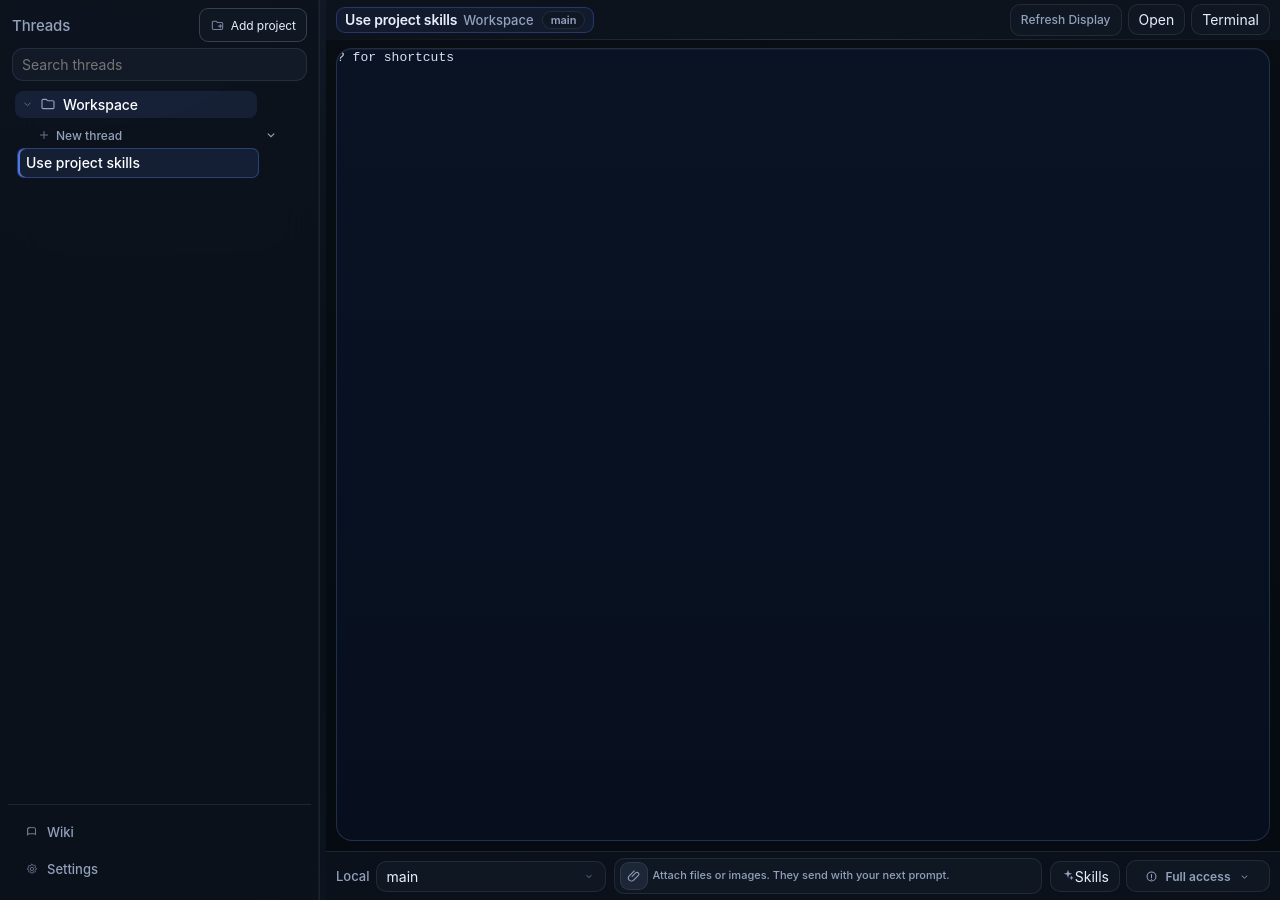
Scenario: Skills management › autofocuses the search field and filters the visible skills list in real time
Click the button "Skills".
click(1085, 876)  # box top-left (1050, 860), bottom-right (1120, 892)
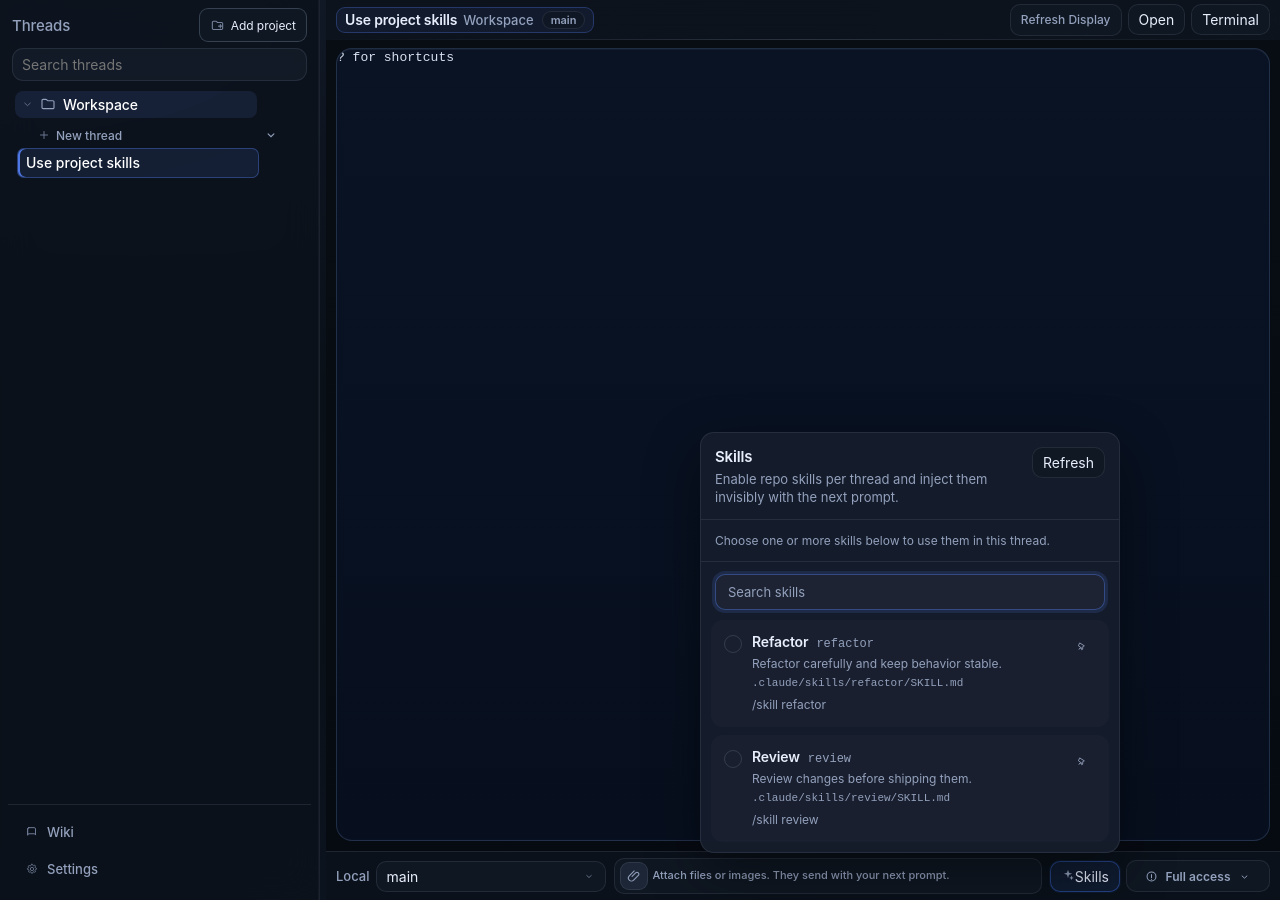
Check: the text "Review" is shown, box top-left (752, 748), bottom-right (800, 765)
Check: the text "Refactor" is shown, box top-left (752, 633), bottom-right (808, 650)
Type "refactor stable" into the search field labelled "Search skills".
click(910, 592); type("refactor stable")  # box top-left (715, 574), bottom-right (1105, 610)
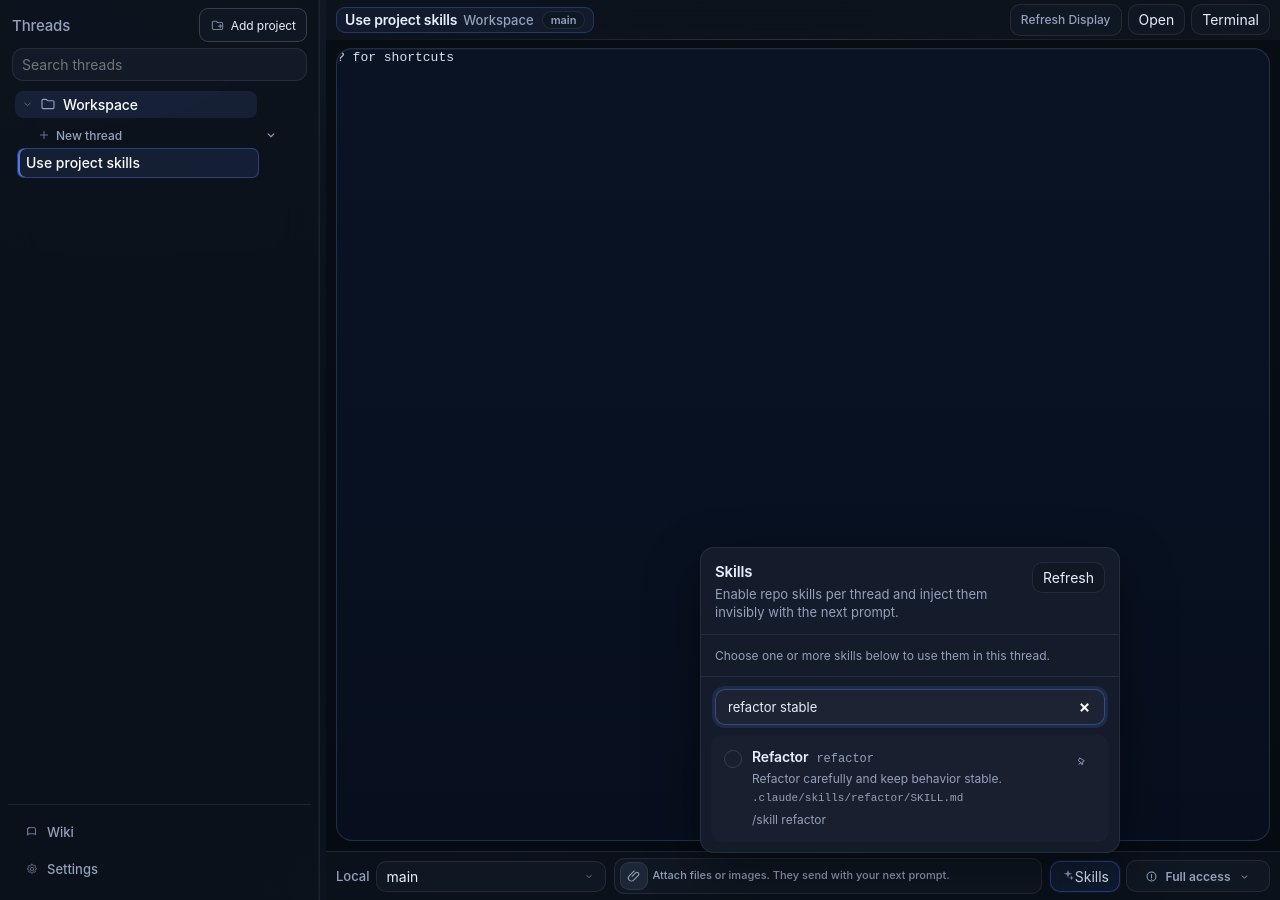
Check: the text "Refactor" is shown, box top-left (752, 748), bottom-right (808, 765)
Check: the button "Review" is gone
Clear the search field named "Search skills" at (910, 707), box top-left (715, 689), bottom-right (1105, 725)
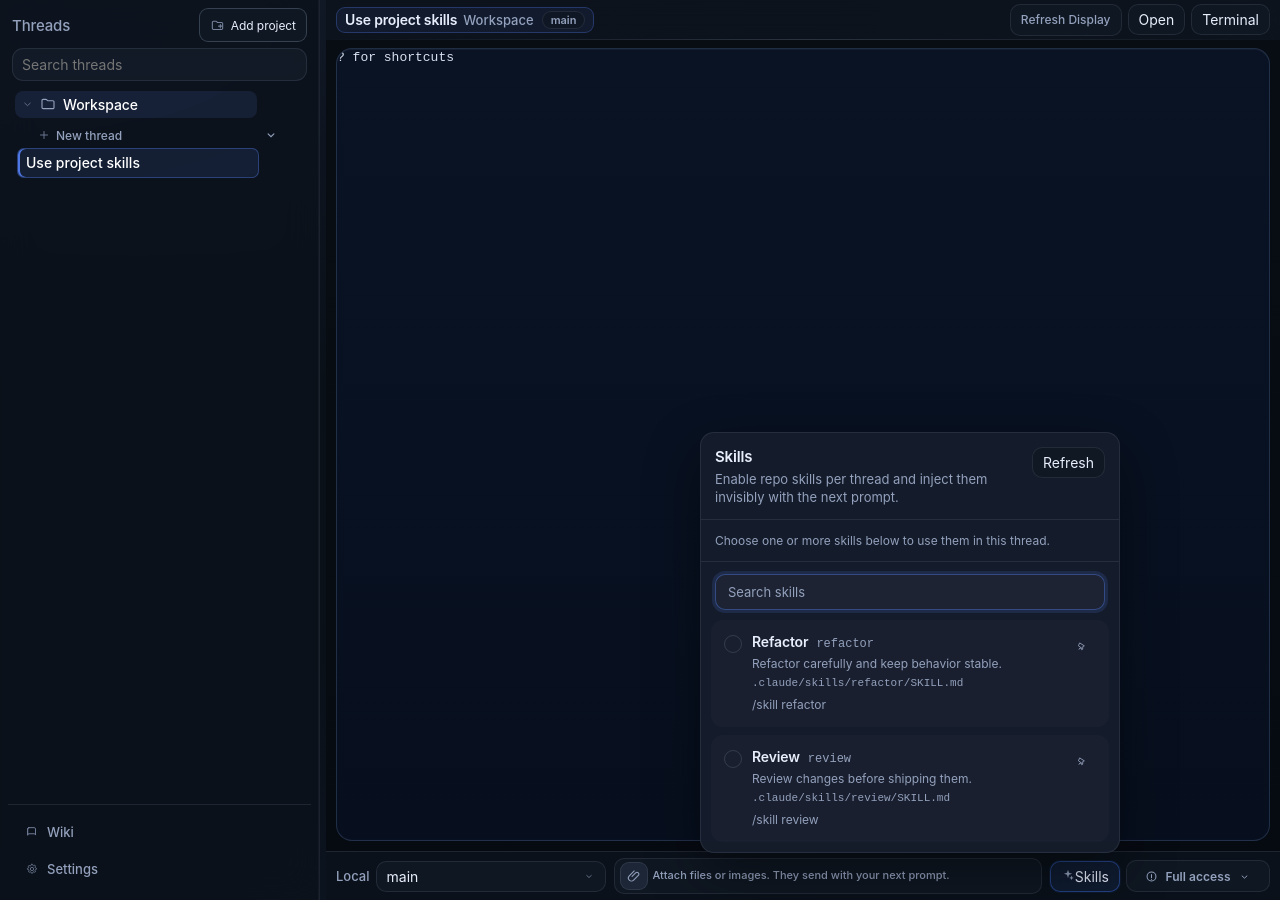
Check: the text "Review" is shown, box top-left (752, 748), bottom-right (800, 765)
